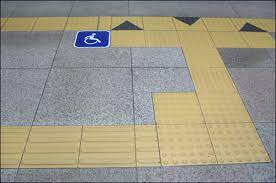guide_blocks: (1, 127, 270, 163), (3, 17, 276, 30), (152, 91, 249, 121), (110, 32, 276, 47), (183, 48, 237, 91)
